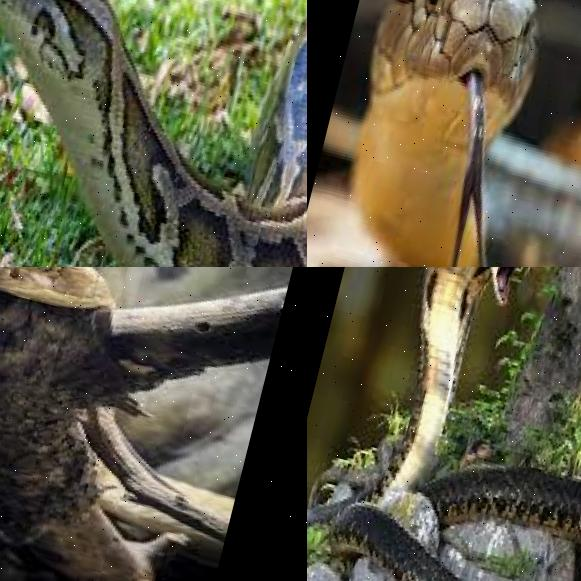snake: (307, 267, 581, 581), (0, 0, 307, 267), (311, 0, 581, 267), (0, 267, 168, 533)
